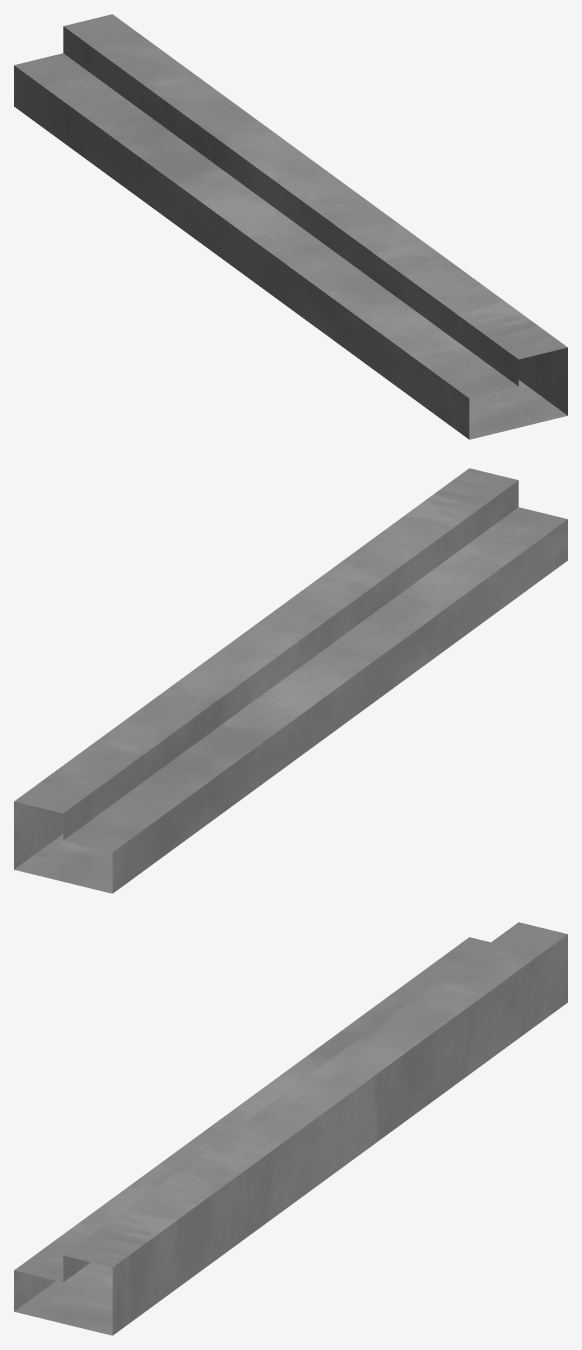
The model's file is Base_teto_A.fbx.
The picture shows the model from 3 angles, top to bottom: view 1: azimuth 30°, elevation 25°; view 2: azimuth 150°, elevation 25°; view 3: azimuth 330°, elevation 25°; orthographic projection.
Visible parts, largest first — view 1: Cube.063; view 2: Cube.063; view 3: Cube.063.
Boxes of the visible parts, x1,y1,x2,y2 form: Cube.063: (14,14,567,439); Cube.063: (14,468,567,893); Cube.063: (14,922,567,1335).
Size of the model in its own units: 50 by 33.08 by 400.
